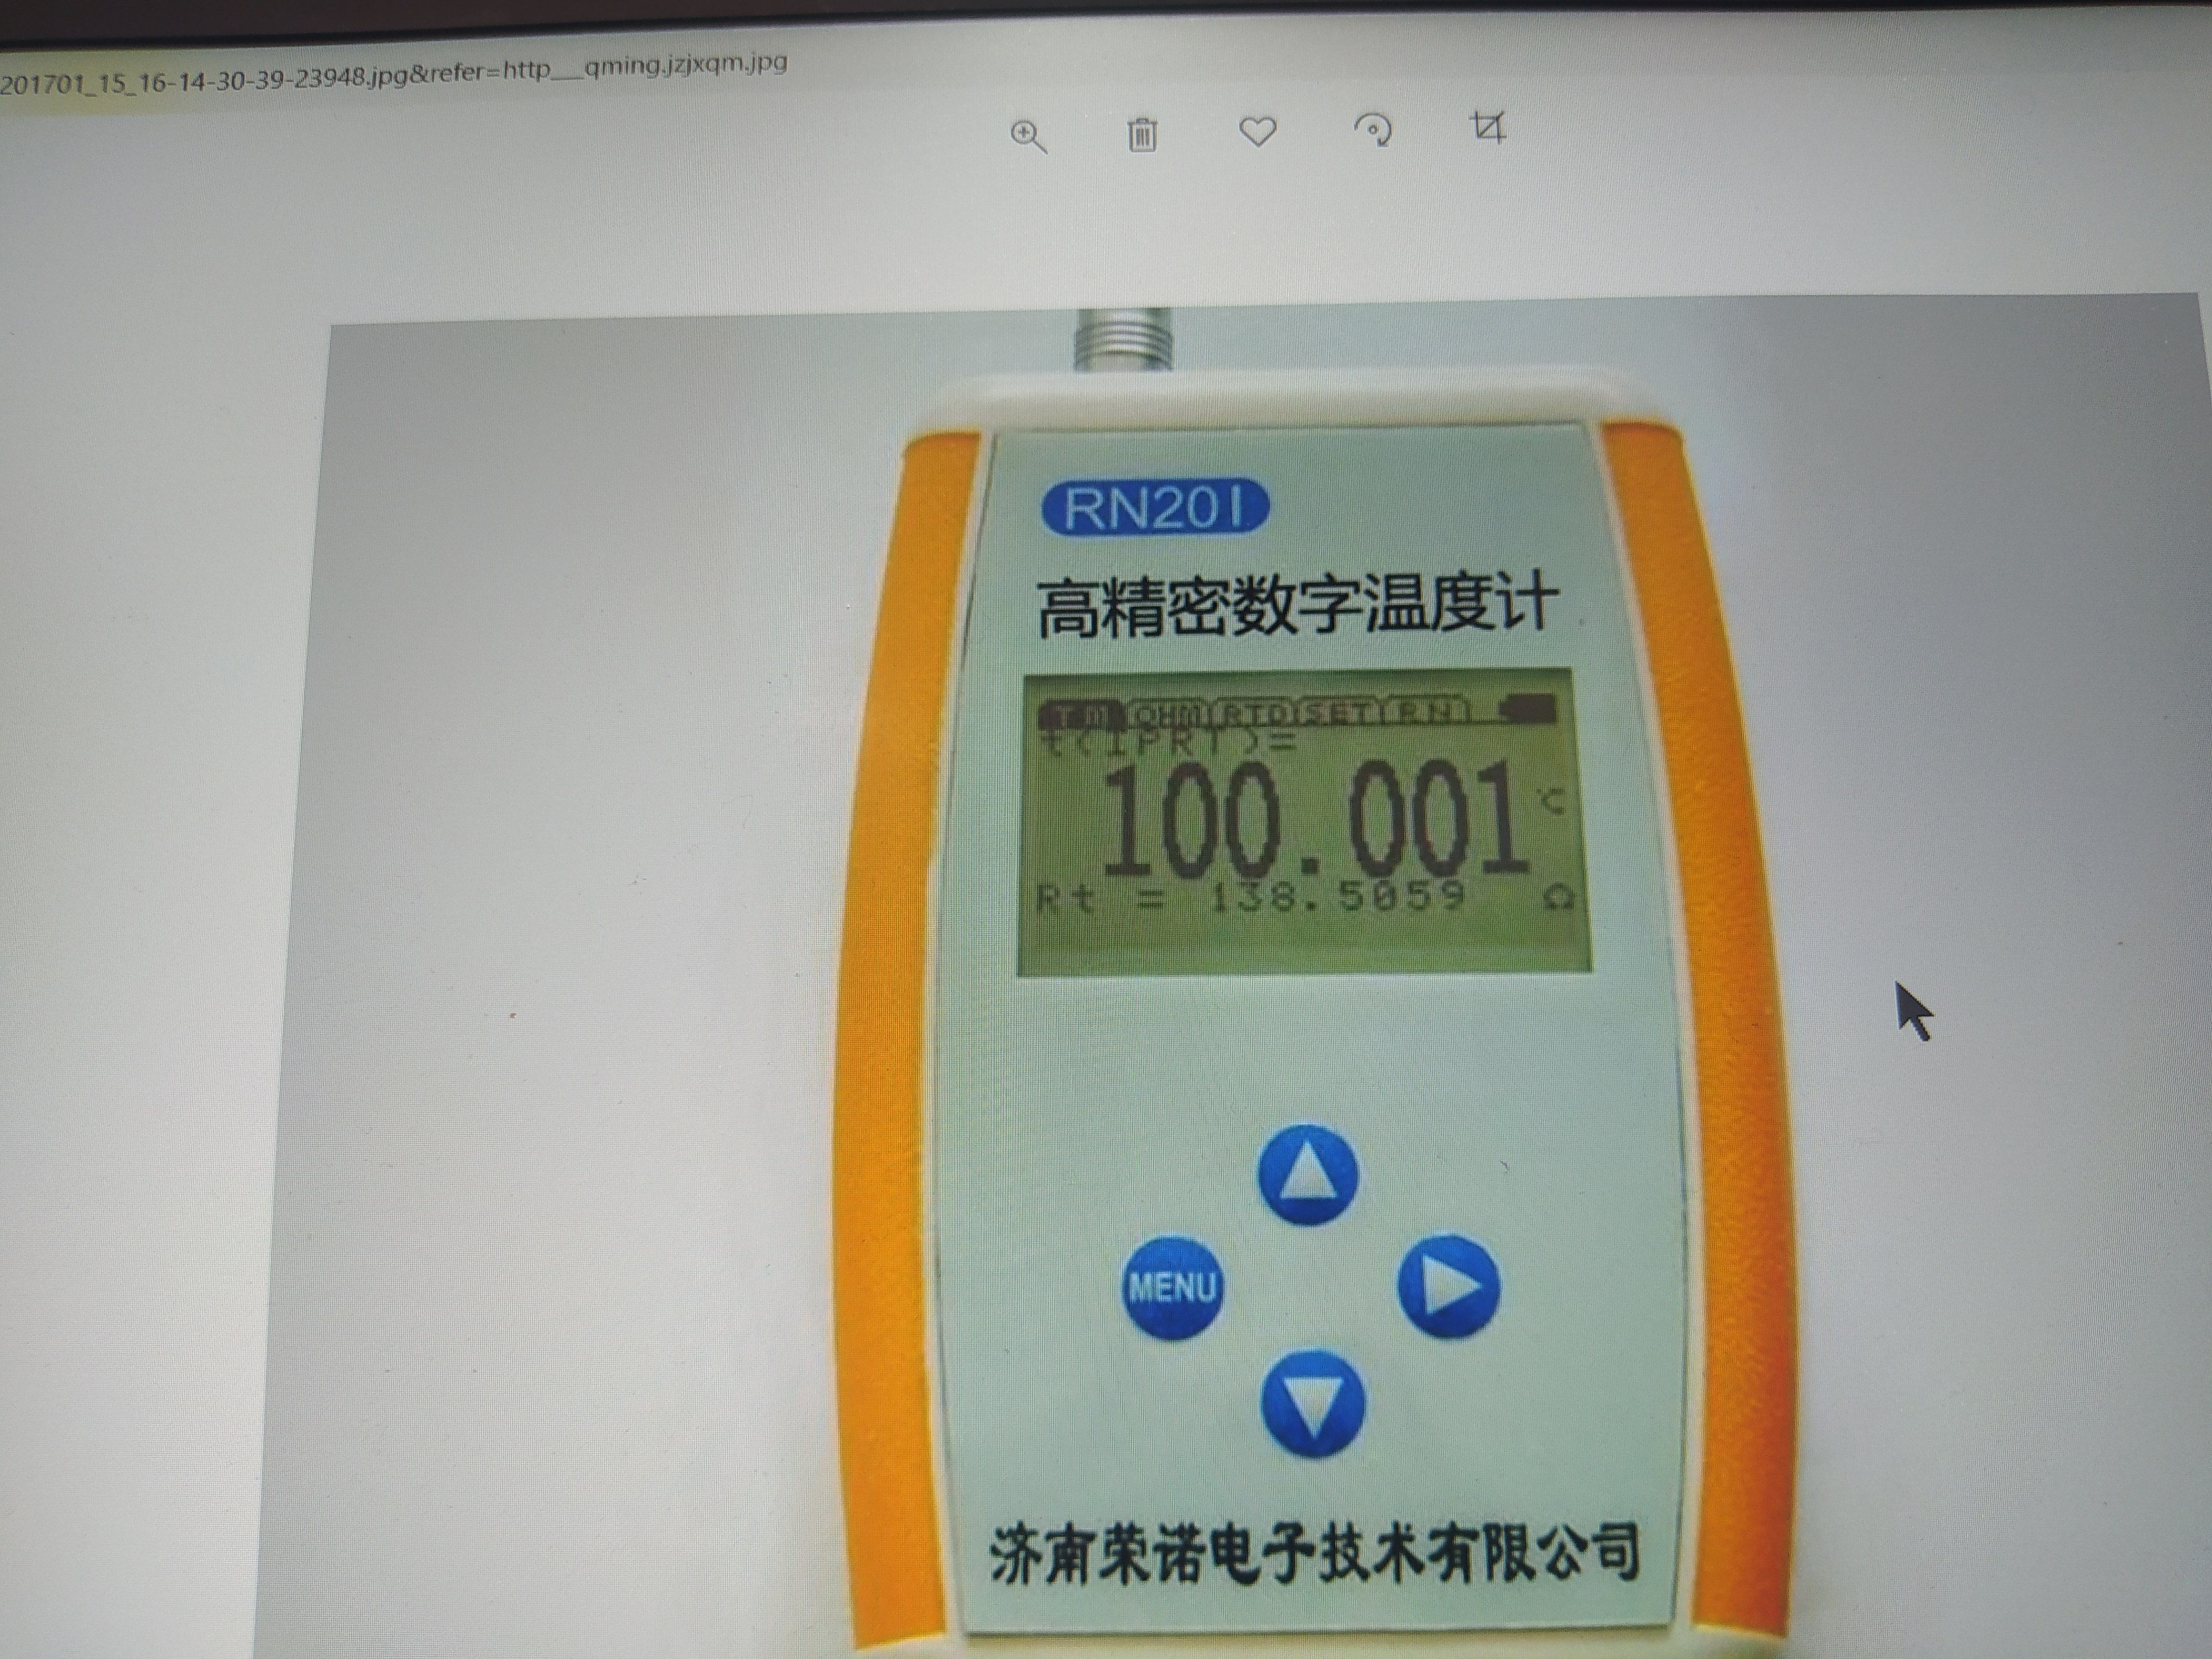.: (1296, 758, 1320, 882)
0: (1407, 758, 1477, 878), (1224, 760, 1291, 882), (1345, 760, 1409, 880), (1163, 760, 1221, 882)
1: (1092, 760, 1153, 880), (1474, 758, 1531, 877)
